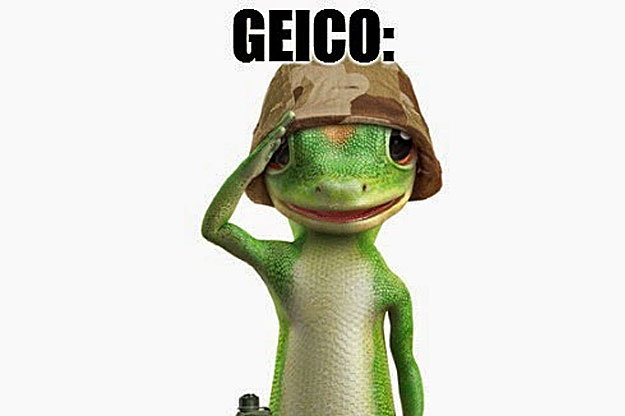geico: (231, 7, 385, 65)
